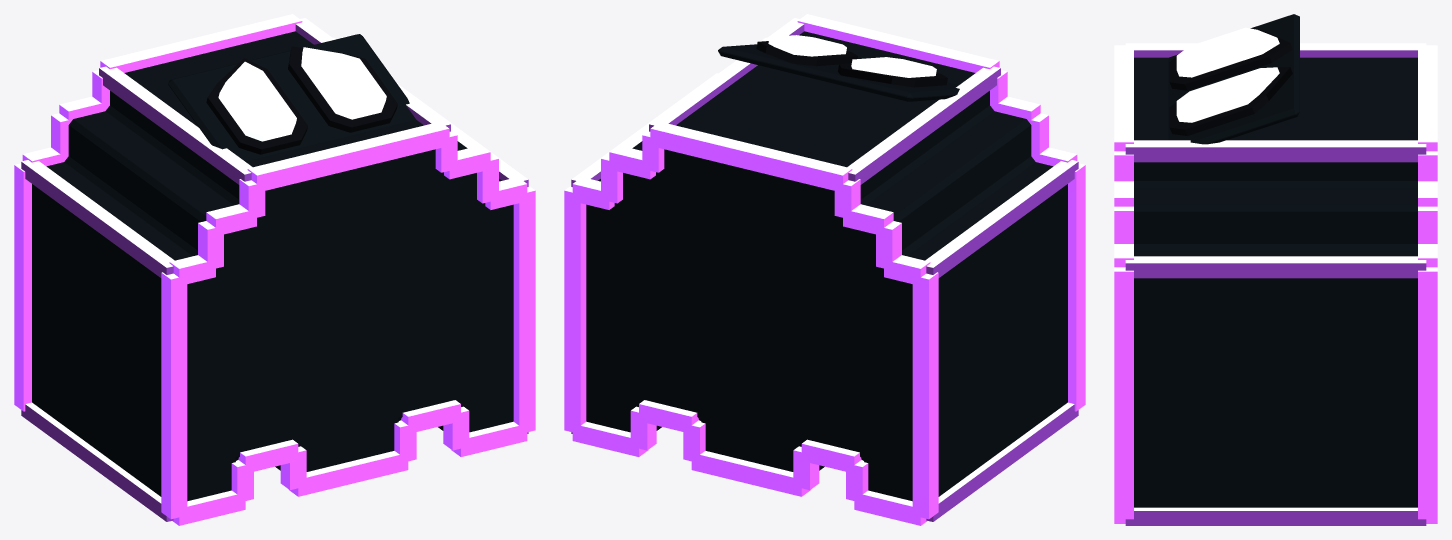
The model's file is spam.glb.
3 views of the same model, side by side, from view 1: azimuth 30°, elevation 25°; view 2: azimuth 150°, elevation 25°; view 3: azimuth 270°, elevation 25° (orthographic). The views are drawn at different scales.
Visible parts, largest first — view 1: body-shell, spam-outline, face-panel, eye-right, eye-left, eye-socket-right, eye-socket-left; view 2: body-shell, spam-outline, face-panel, eye-left, eye-right, eye-socket-left, eye-socket-right; view 3: body-shell, spam-outline, face-panel, eye-right, eye-left, eye-socket-right, eye-socket-left.
Part boxes in pixels (<box>): body-shell: <box>32,31,513,501</box>; spam-outline: <box>14,14,535,525</box>; face-panel: <box>168,34,416,161</box>; eye-right: <box>301,47,386,119</box>; eye-left: <box>218,61,296,141</box>; eye-socket-right: <box>288,46,397,132</box>; eye-socket-left: <box>206,58,307,154</box>; body-shell: <box>586,31,1067,501</box>; spam-outline: <box>564,14,1085,525</box>; face-panel: <box>718,44,959,101</box>; eye-left: <box>851,57,936,77</box>; eye-right: <box>768,35,846,56</box>; eye-socket-left: <box>838,63,947,87</box>; eye-socket-right: <box>756,41,857,66</box>; body-shell: <box>1134,57,1417,507</box>; spam-outline: <box>1114,43,1437,525</box>; face-panel: <box>1168,14,1299,144</box>; eye-right: <box>1176,67,1279,122</box>; eye-left: <box>1176,27,1279,77</box>; eye-socket-right: <box>1169,67,1292,135</box>; eye-socket-left: <box>1169,28,1292,90</box>.
Bounding box in the file's own units: 7.96 × 7.74 × 5.92.
